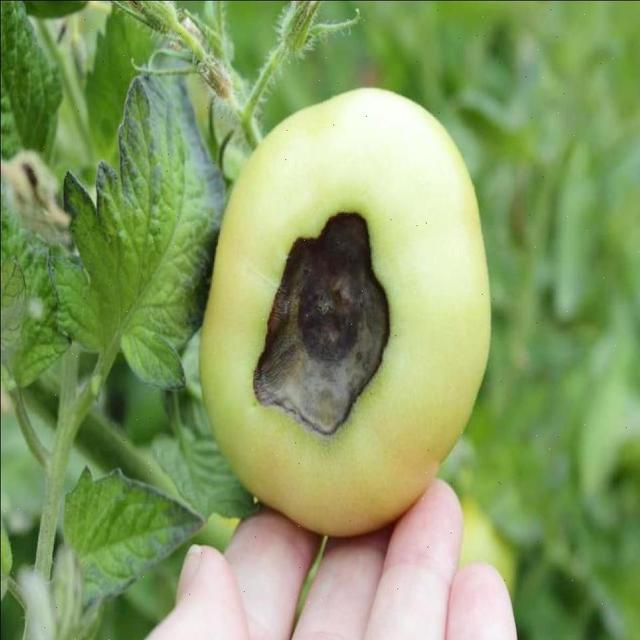Blossom End Rot Fruit: (166, 137, 262, 294)
